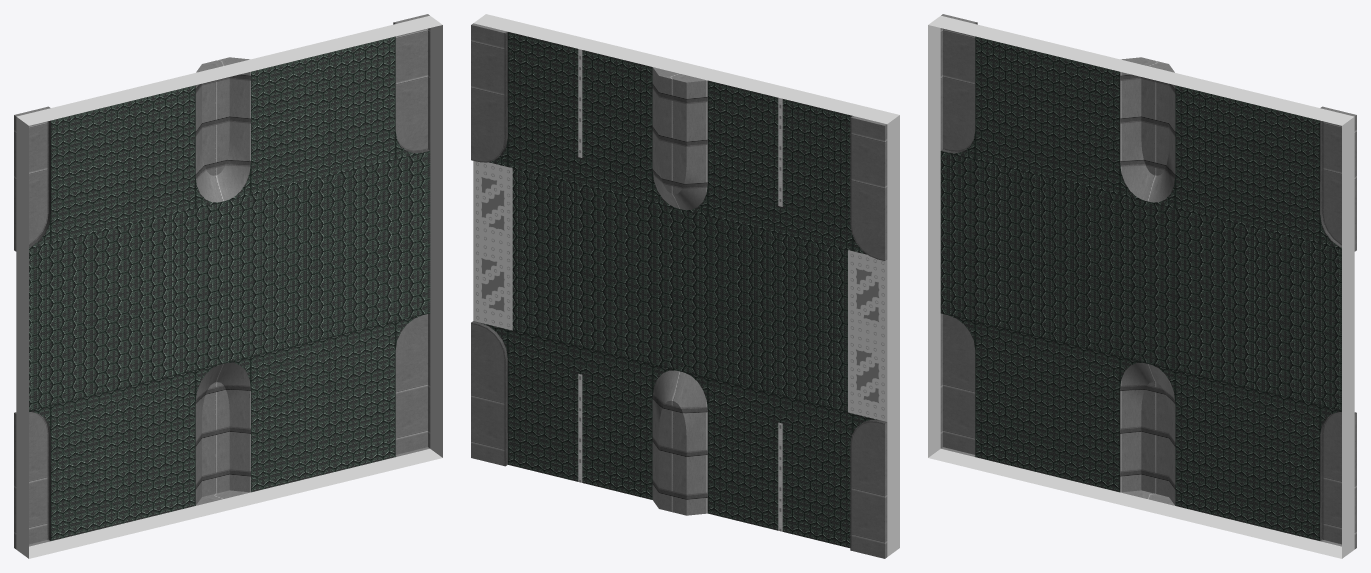
File: FC_road_crossroad.fbx
3 renders of one model, left to right at view 1: azimuth 30°, elevation 25°; view 2: azimuth 150°, elevation 25°; view 3: azimuth 330°, elevation 25°, orthographic.
Parts seen in each view (by area): view 1: FC_road_crossroad; view 2: FC_road_crossroad, crosswalk_004, light_008; view 3: FC_road_crossroad.
Boxes of the visible parts, x1=… form: FC_road_crossroad: x1=14, y1=14, x2=442, y2=558; FC_road_crossroad: x1=471, y1=14, x2=899, y2=558; crosswalk_004: x1=473, y1=161, x2=887, y2=421; light_008: x1=578, y1=49, x2=782, y2=531; FC_road_crossroad: x1=928, y1=14, x2=1356, y2=558.
Bounding box in the file's own units: 16 × 16 × 1.35.
